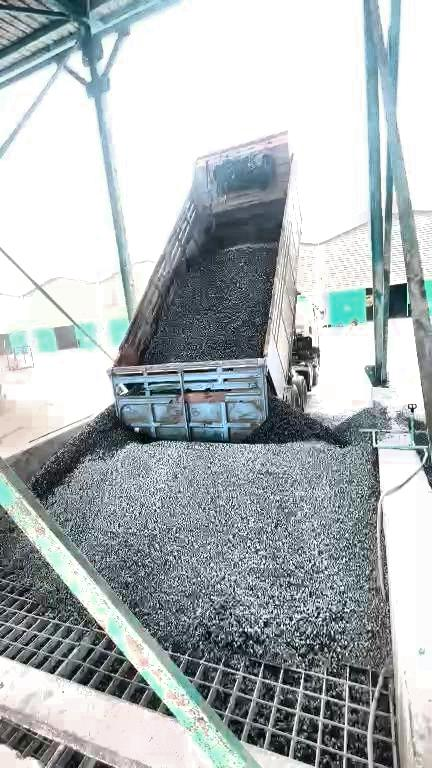gravel: (27, 378, 390, 669), (140, 244, 275, 362), (1, 511, 83, 619)
sand: (1, 394, 74, 456)
